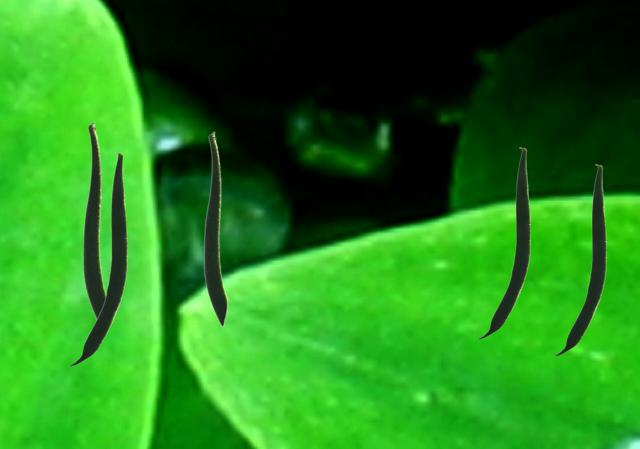french_bean: (68, 152, 126, 365), (553, 164, 605, 355), (477, 147, 529, 338), (203, 131, 227, 326), (82, 121, 105, 319)
